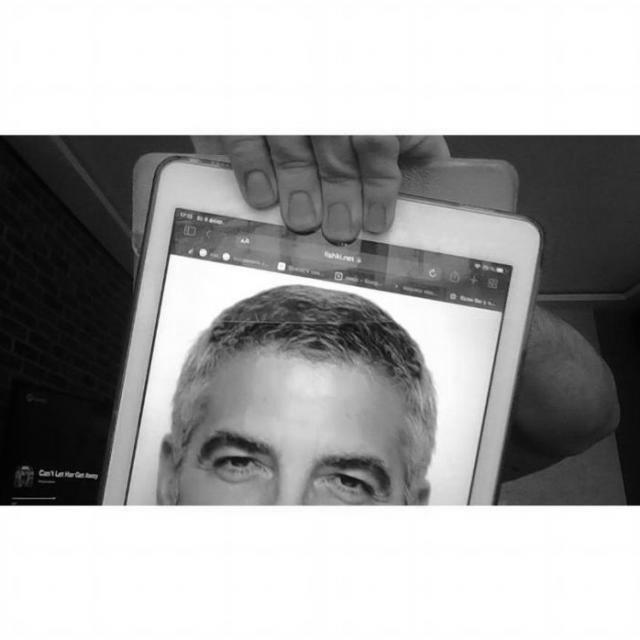fake: (97, 152, 545, 504)
